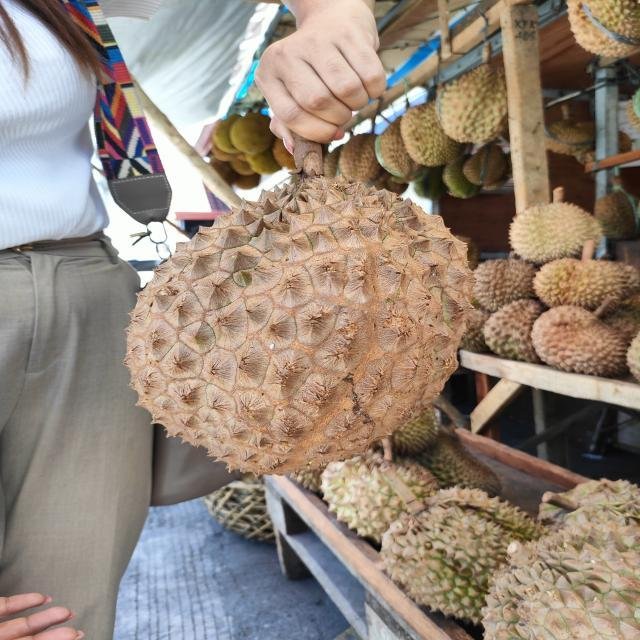mature: (122, 176, 478, 475)
